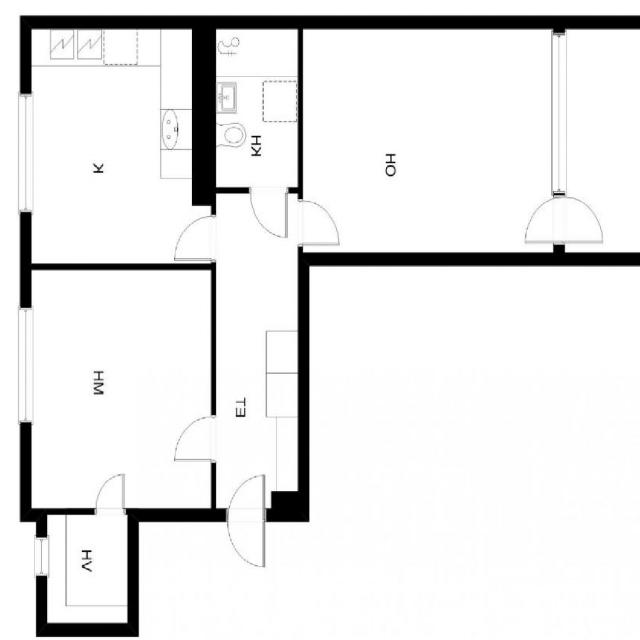door: (228, 462, 265, 522), (516, 196, 564, 242), (554, 196, 602, 242), (228, 508, 265, 566), (174, 416, 217, 461), (175, 216, 217, 260), (298, 200, 339, 244), (252, 188, 288, 236), (97, 474, 125, 514)
